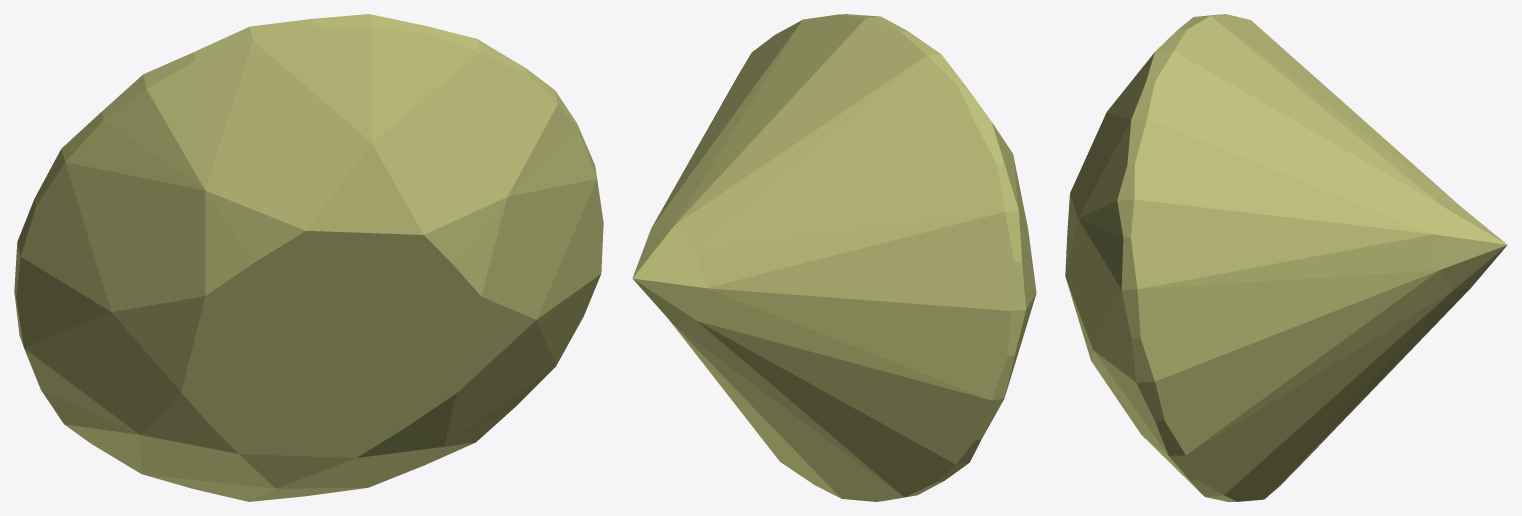
File: BL2_8shapes_Round_Classic_Stone.001 3.glb
3 renders of one model, left to right at view 1: azimuth 30°, elevation 25°; view 2: azimuth 150°, elevation 25°; view 3: azimuth 270°, elevation 25°, orthographic. The views are drawn at different scales.
Parts seen in each view (by area): view 1: BL2_8shapes_Round_Classic_Stone.001; view 2: BL2_8shapes_Round_Classic_Stone.001; view 3: BL2_8shapes_Round_Classic_Stone.001.
Part boxes in pixels (left/top/right/bottom): BL2_8shapes_Round_Classic_Stone.001: left=14, top=14, right=603, bottom=501; BL2_8shapes_Round_Classic_Stone.001: left=632, top=14, right=1036, bottom=501; BL2_8shapes_Round_Classic_Stone.001: left=1065, top=14, right=1507, bottom=501.
Bounding box in the file's own units: 0.4356 × 0.447 × 0.4088.
